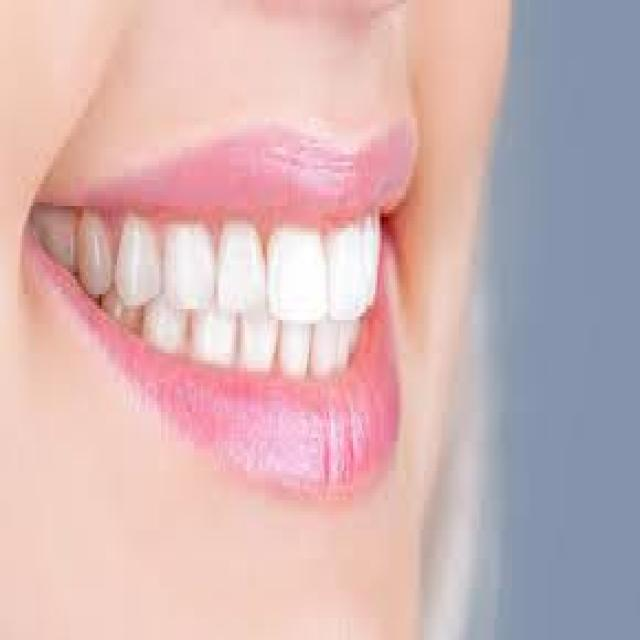tooth: (260, 221, 326, 316), (212, 224, 265, 324), (112, 206, 156, 324), (333, 228, 382, 320), (168, 217, 210, 316), (77, 221, 117, 305), (238, 316, 280, 386), (196, 316, 234, 372), (282, 316, 307, 382), (150, 306, 183, 350), (316, 328, 338, 376)
